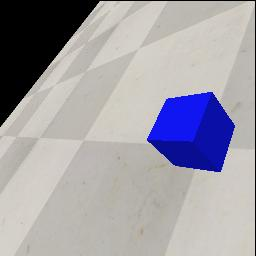box: (147, 91, 235, 172)
